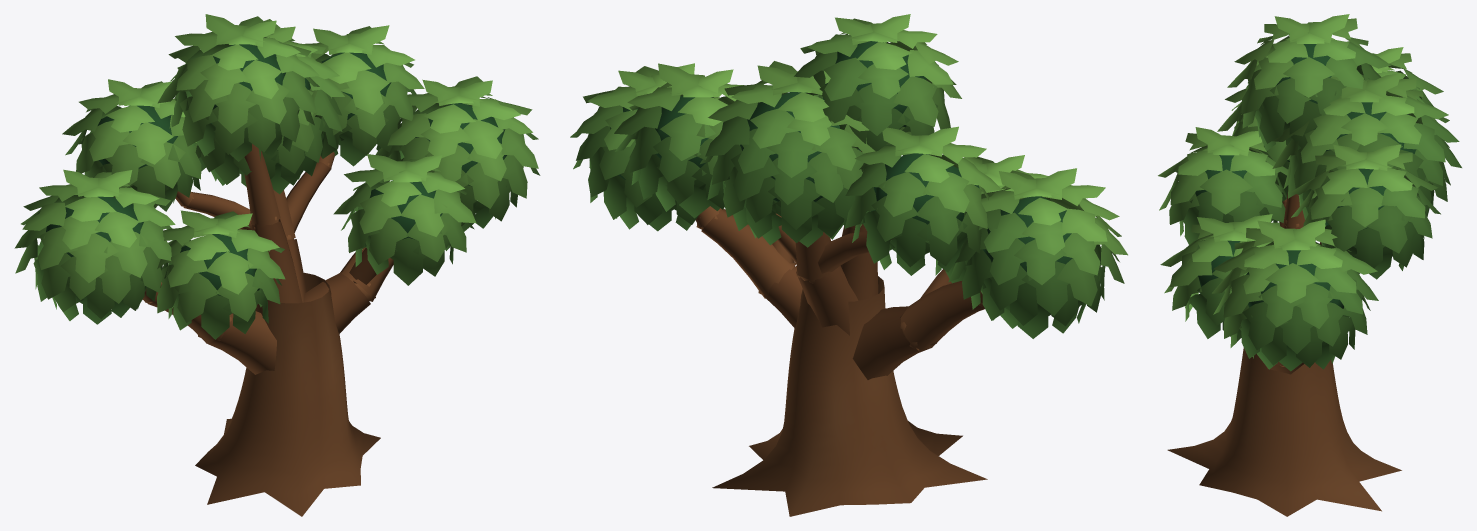
The model's file is tree_old_lod1.glb.
3 renders of one model, left to right at view 1: azimuth 30°, elevation 25°; view 2: azimuth 150°, elevation 25°; view 3: azimuth 270°, elevation 25°, orthographic. The views are drawn at different scales.
Parts seen in each view (by area): view 1: tree_old.001; view 2: tree_old.001; view 3: tree_old.001.
Part boxes in pixels (box(x1,y1,x2,y2)): tree_old.001: box(14, 14, 540, 516); tree_old.001: box(570, 14, 1127, 516); tree_old.001: box(1158, 14, 1461, 516).
Bounding box in the file's own units: 7.66 × 6.39 × 4.07.
